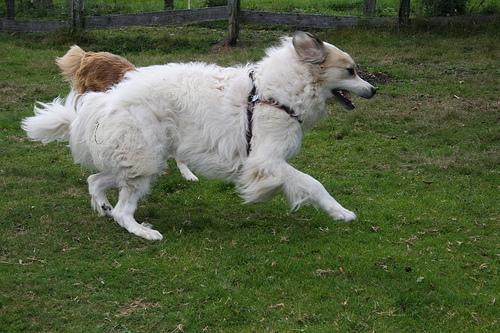Great_Pyrenees: (22, 30, 378, 241)
